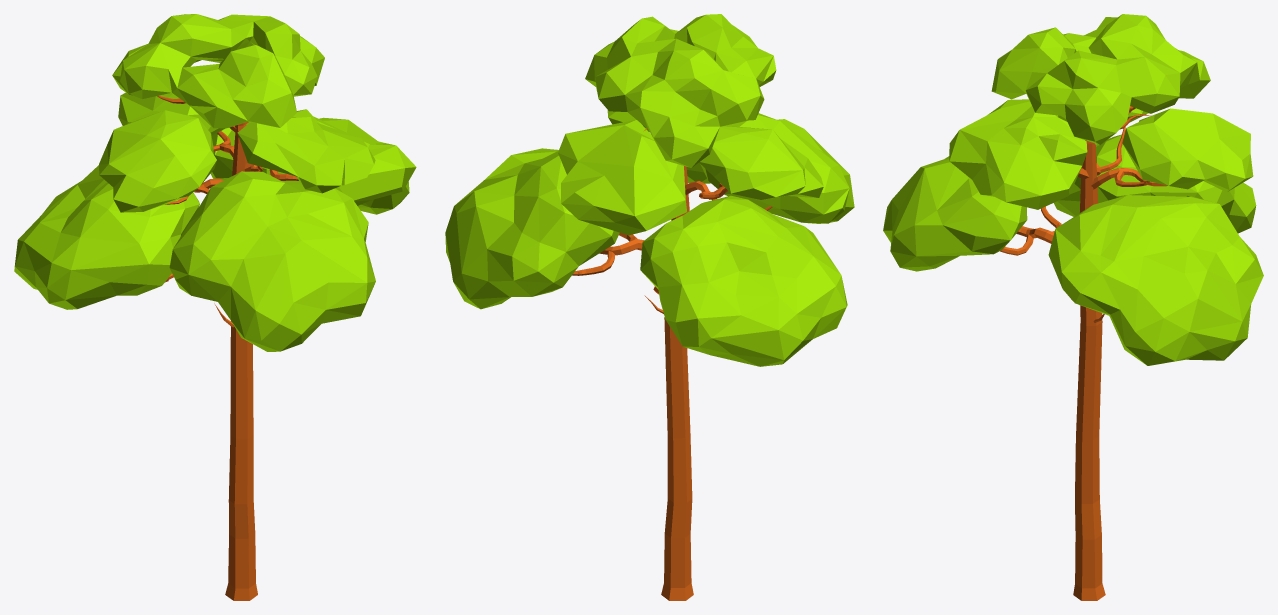
The model's file is Tree_9.fbx.
The picture shows the model from 3 angles, left to right: view 1: azimuth 30°, elevation 25°; view 2: azimuth 150°, elevation 25°; view 3: azimuth 270°, elevation 25°; orthographic projection.
Parts seen in each view (by area): view 1: tree_9; view 2: tree_9; view 3: tree_9.
Boxes of the visible parts, x1,y1,x2,y2 form: tree_9: (14, 14, 416, 600); tree_9: (445, 14, 854, 600); tree_9: (883, 14, 1263, 600).
Size of the model in its own units: 1157 by 1661 by 1023.
